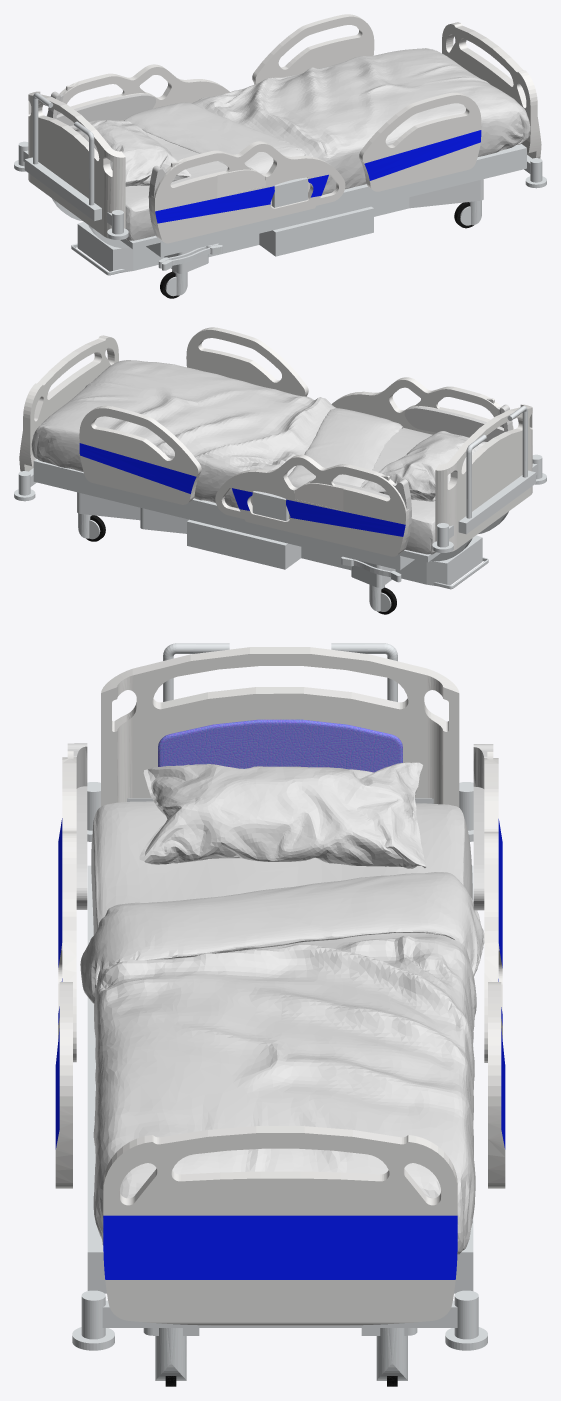
File: Hospital+Bed.glb
3 views of the same model, one above another, from view 1: azimuth 30°, elevation 25°; view 2: azimuth 150°, elevation 25°; view 3: azimuth 270°, elevation 25° (orthographic). The views are drawn at different scales.
Visible parts, largest first — view 1: G-Object.001, Component#34 (C-Component#34), Component#40 (C-Component#40), Component#19 (C-Component#19), G-Object, Component#25 (C-Component#25), Component#1 (C-Component#1), Component#39 (C-Component#39), Component#37 (C-Component#37), C-Object01, Component#16 (C-Component#16), Component#6 (C-Component#6) (+12 smaller); view 2: G-Object.001, Component#37 (C-Component#37), Component#39 (C-Component#39), Component#19 (C-Component#19), Component#25 (C-Component#25), G-Object, Component#1 (C-Component#1), Component#40 (C-Component#40), Component#34 (C-Component#34), C-Object01, Component#16 (C-Component#16), Component#6 (C-Component#6) (+11 smaller); view 3: G-Object.001, Component#1 (C-Component#1), Component#19 (C-Component#19), C-Object01, G-Object, Component#18 (C-Component#18), Component#34 (C-Component#34), Component#37 (C-Component#37), Component#39 (C-Component#39), Component#40 (C-Component#40), Component#24 (C-Component#24), Component#11 (C-Component#11) (+10 smaller).
Boxes of the visible parts, bbox=[...] form: G-Object.001: bbox=[125, 48, 530, 241]; Component#34 (C-Component#34): bbox=[151, 141, 345, 243]; Component#40 (C-Component#40): bbox=[359, 92, 481, 191]; Component#19 (C-Component#19): bbox=[28, 91, 125, 239]; G-Object: bbox=[124, 102, 305, 174]; Component#25 (C-Component#25): bbox=[77, 179, 483, 273]; Component#1 (C-Component#1): bbox=[442, 22, 541, 158]; Component#39 (C-Component#39): bbox=[252, 14, 374, 84]; Component#37 (C-Component#37): bbox=[47, 64, 229, 120]; C-Object01: bbox=[69, 120, 191, 186]; Component#16 (C-Component#16): bbox=[259, 206, 373, 256]; Component#6 (C-Component#6): bbox=[373, 154, 526, 205]; G-Object.001: bbox=[31, 360, 435, 554]; Component#37 (C-Component#37): bbox=[215, 454, 409, 556]; Component#39 (C-Component#39): bbox=[79, 405, 201, 504]; Component#19 (C-Component#19): bbox=[435, 404, 532, 551]; Component#25 (C-Component#25): bbox=[77, 492, 482, 587]; G-Object: bbox=[287, 408, 402, 487]; Component#1 (C-Component#1): bbox=[19, 335, 118, 471]; Component#40 (C-Component#40): bbox=[186, 327, 308, 396]; Component#34 (C-Component#34): bbox=[331, 377, 513, 434]; C-Object01: bbox=[362, 431, 486, 501]; Component#16 (C-Component#16): bbox=[187, 519, 301, 569]; Component#6 (C-Component#6): bbox=[33, 467, 187, 519]; G-Object.001: bbox=[91, 801, 476, 1254]; Component#1 (C-Component#1): bbox=[103, 1126, 457, 1325]; Component#19 (C-Component#19): bbox=[101, 647, 459, 807]; C-Object01: bbox=[139, 762, 426, 868]; G-Object: bbox=[80, 872, 484, 1004]; Component#18 (C-Component#18): bbox=[158, 719, 402, 772]; Component#34 (C-Component#34): bbox=[58, 751, 76, 1062]; Component#37 (C-Component#37): bbox=[484, 751, 502, 1062]; Component#39 (C-Component#39): bbox=[488, 982, 505, 1188]; Component#40 (C-Component#40): bbox=[55, 982, 72, 1188]; Component#24 (C-Component#24): bbox=[155, 1328, 407, 1380]; Component#11 (C-Component#11): bbox=[81, 1290, 478, 1339].
Size of the model in its own units: 2.4 by 0.9758 by 1.07.
6 materials, 2 textured.
